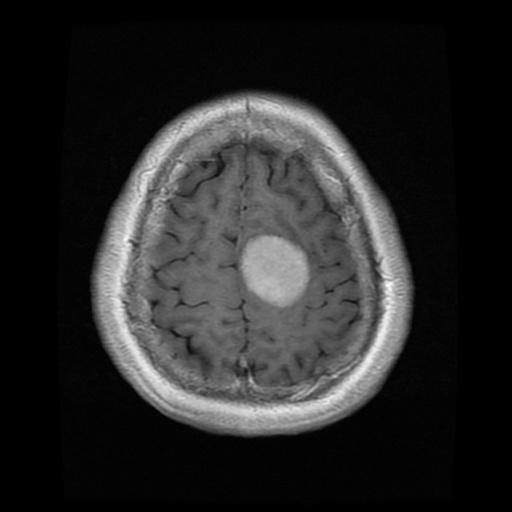meningioma: (241, 234, 308, 306)
